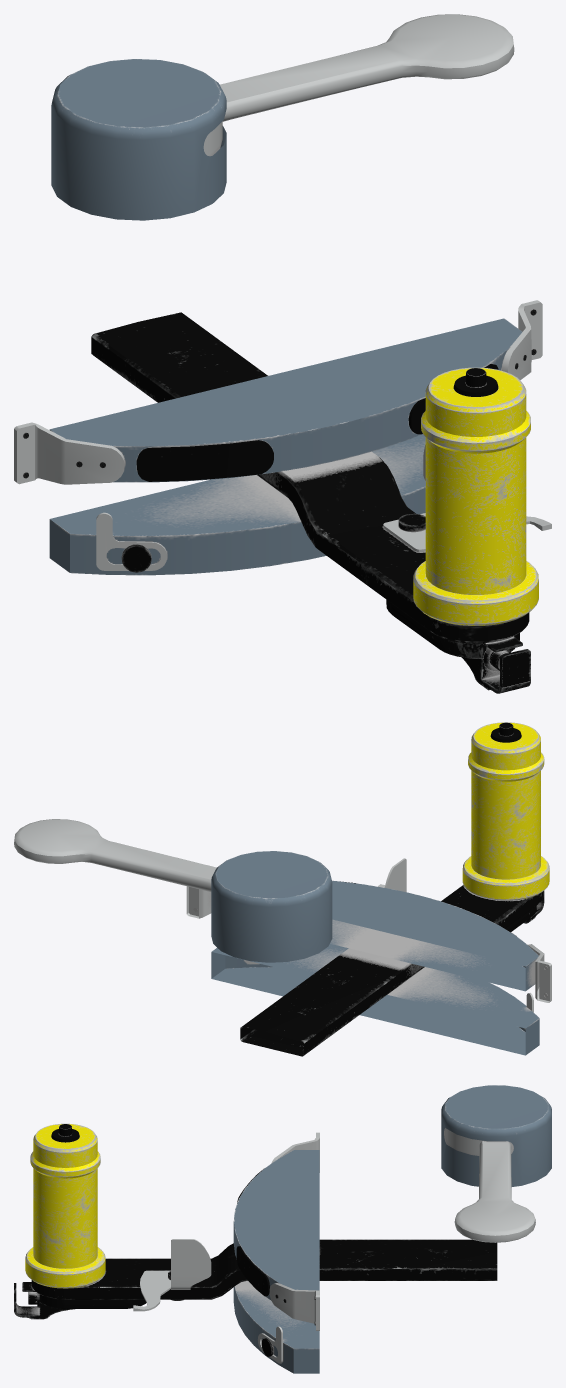
File: MiG-15bis-Throttle.gltf
The picture shows the model from 3 angles, top to bottom: view 1: azimuth 30°, elevation 25°; view 2: azimuth 150°, elevation 25°; view 3: azimuth 270°, elevation 25°; orthographic projection. The views are drawn at different scales.
Parts seen in each view (by area): view 1: GAC_StopFar, GAC_Lever, GAC_RBFastNear.002, GAC_Lock, GAC_Fix, GB_Fix; view 2: GAC_StopFar, GAC_RBFastNear.002, GAC_Lever, GAC_Lock, GAC_Fix; view 3: GAC_StopFar, GAC_Lever, GAC_RBFastNear.002, GAC_Lock, GAC_Fix.
Boxes of the visible parts, x1,y1,x2,y2 form: GAC_StopFar: (14,59,542,575); GAC_Lever: (91,312,530,693); GAC_RBFastNear.002: (413,367,538,625); GAC_Lock: (203,14,514,156); GAC_Fix: (383,445,551,552); GB_Fix: (500,649,530,687); GAC_StopFar: (186,851,551,1055); GAC_RBFastNear.002: (462,722,549,900); GAC_Lever: (240,885,544,1056); GAC_Lock: (14,819,216,891); GAC_Fix: (378,858,406,892); GAC_StopFar: (233,1085,551,1373); GAC_Lever: (14,1239,497,1319); GAC_RBFastNear.002: (25,1123,105,1288); GAC_Lock: (444,1128,535,1242); GAC_Fix: (133,1239,211,1311).
Size of the model in its own units: 0.2245 by 0.1111 by 0.2605.
Materials: 1 (1 with a texture image).
